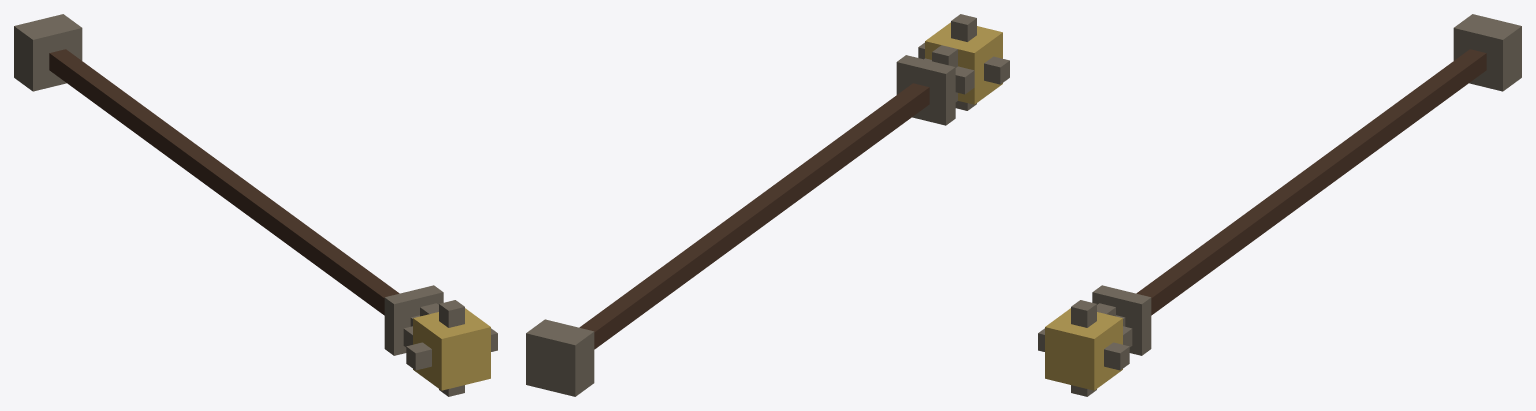
The model's file is vox_staff_earth.glb.
3 views of the same model, side by side, from view 1: azimuth 30°, elevation 25°; view 2: azimuth 150°, elevation 25°; view 3: azimuth 330°, elevation 25° (orthographic).
Visible parts, largest first — view 1: vox_staff_earth; view 2: vox_staff_earth; view 3: vox_staff_earth.
Part boxes in pixels (x1=…): vox_staff_earth: x1=14, y1=14, x2=497, y2=396; vox_staff_earth: x1=526, y1=14, x2=1009, y2=396; vox_staff_earth: x1=1038, y1=14, x2=1521, y2=396.
Bounding box in the file's own units: 0.1 × 0.1 × 0.9.
